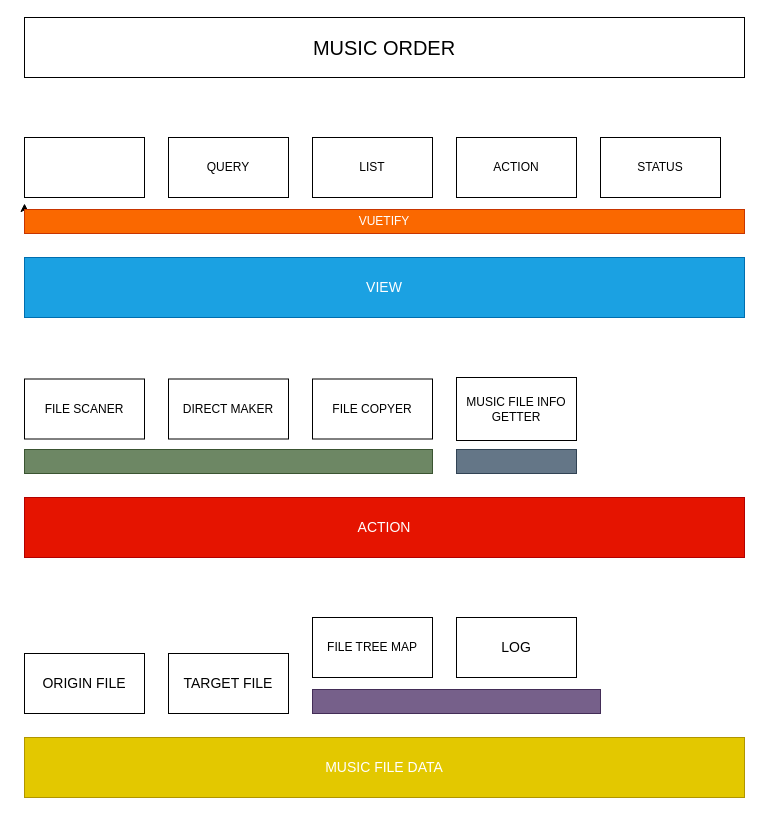
The diagram is 762 pixels wide and 815 high, and some of its shapes have lost their labels. Here are the shapes that lost their labels. From the top down, the centre of each, then its label:
(x=84, y=167): CATALOG
(x=228, y=461): NODE
(x=516, y=461): JS MEDIA TAGS
(x=456, y=701): POUCHDB
